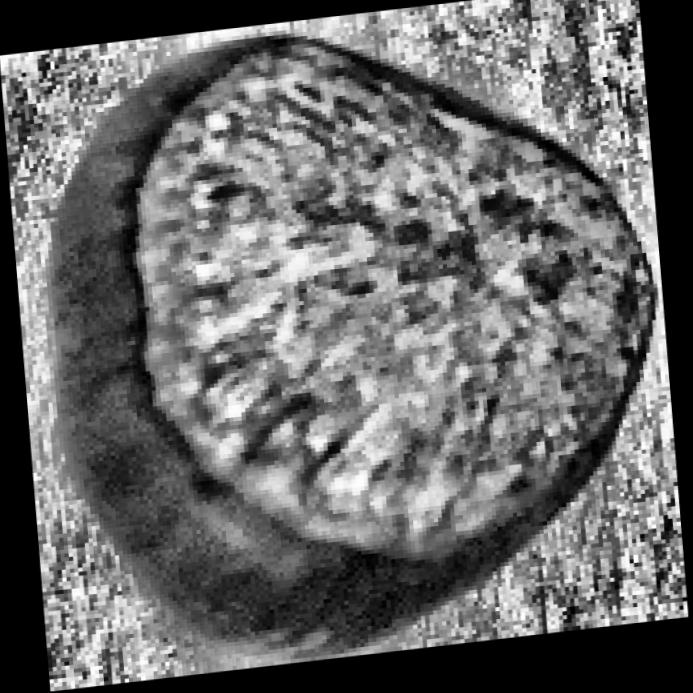qualityHazelnut: (0, 0, 693, 693)
